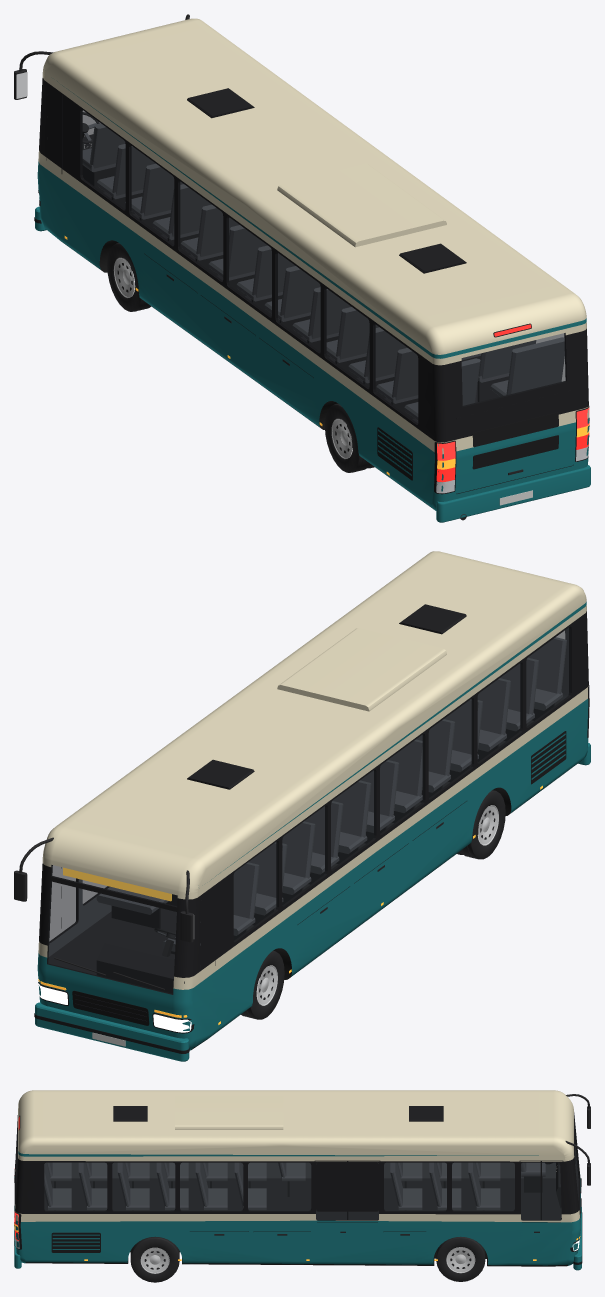
The model's file is bus_coach.glb.
3 renders of one model, top to bottom at view 1: azimuth 30°, elevation 25°; view 2: azimuth 150°, elevation 25°; view 3: azimuth 270°, elevation 25°, orthographic. The views are drawn at different scales.
Visible parts, largest first — view 1: Body, Glass, Interior, Wheel_RL, Wheel_FL; view 2: Body, Glass, Interior, Wheel_RL, Wheel_FL, Lights_Head; view 3: Body, Glass, Interior, Wheel_RR, Wheel_FR.
Part boxes in pixels (x1,y1,x2,y2): Body: [14, 14, 590, 522]; Glass: [81, 109, 566, 424]; Interior: [82, 123, 564, 420]; Wheel_RL: [325, 403, 374, 472]; Wheel_FL: [107, 243, 151, 311]; Body: [14, 551, 590, 1061]; Glass: [47, 627, 570, 994]; Interior: [96, 637, 566, 993]; Wheel_RL: [457, 790, 505, 859]; Wheel_FL: [241, 950, 284, 1019]; Lights_Head: [38, 983, 191, 1032]; Body: [14, 1090, 590, 1270]; Glass: [17, 1119, 579, 1220]; Interior: [44, 1162, 577, 1210]; Wheel_RR: [130, 1236, 179, 1282]; Wheel_FR: [436, 1236, 485, 1281].
Bounding box in the file's own units: 2.92 × 3.3 × 11.7.
